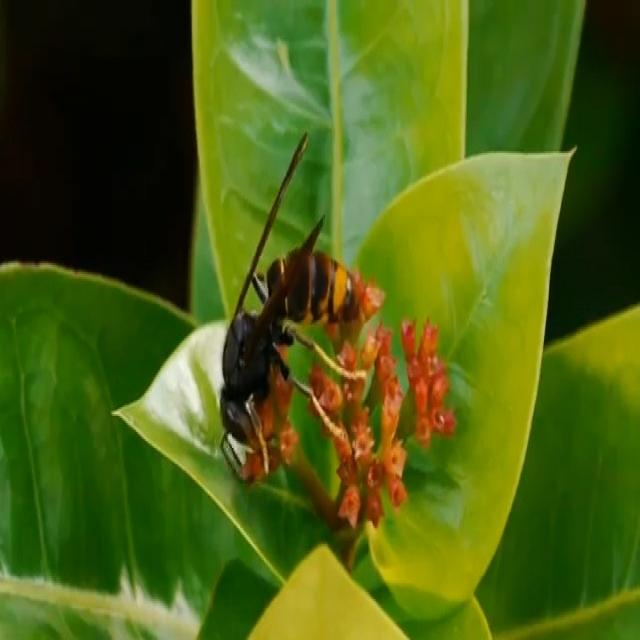Hornets: (220, 130, 364, 479)
